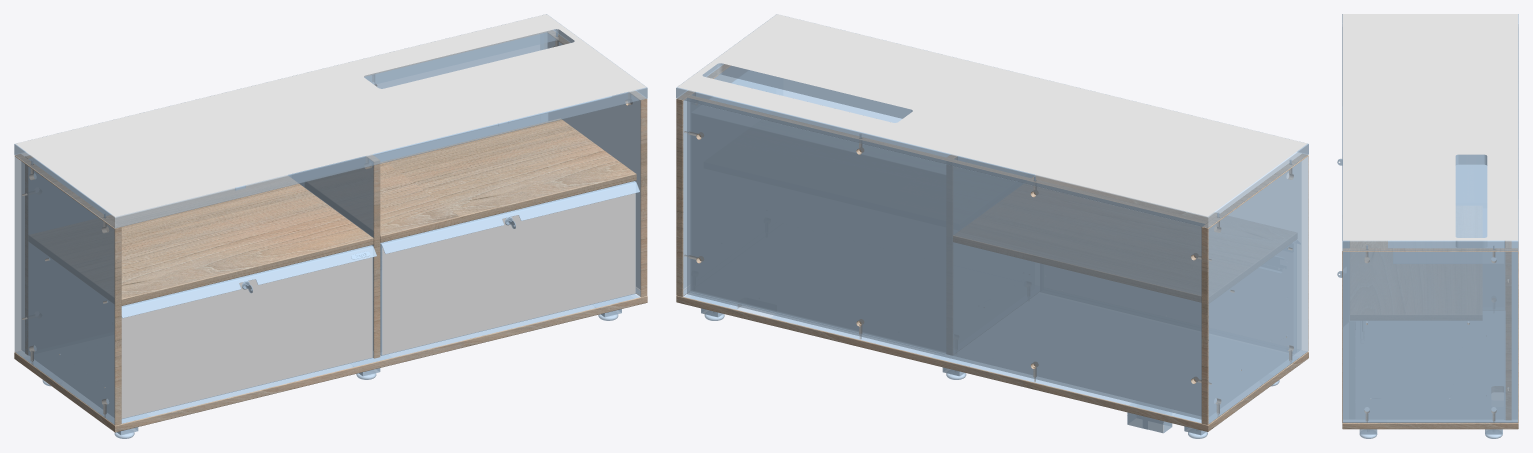
The model's file is LKAL160000_IZ_150.glb.
3 views of the same model, side by side, from view 1: azimuth 30°, elevation 25°; view 2: azimuth 150°, elevation 25°; view 3: azimuth 270°, elevation 25° (orthographic). The views are drawn at different scales.
Parts seen in each view (by area): view 1: 4 (×4), 70, 69, 65; view 2: 4 (×4), 65; view 3: 4 (×4), 65.
Boxes of the visible parts, bbox=[...] form: 4 (×4): bbox=[14, 14, 647, 432]; 70: bbox=[380, 181, 639, 253]; 69: bbox=[121, 245, 376, 318]; 65: bbox=[373, 96, 611, 161]; 4 (×4): bbox=[676, 14, 1308, 431]; 65: bbox=[690, 70, 950, 354]; 4 (×4): bbox=[1342, 14, 1518, 429]; 65: bbox=[1388, 155, 1504, 419].
Bounding box in the file's own units: 1.53 × 0.643 × 0.5143.
Materials: 3 (1 with a texture image).
